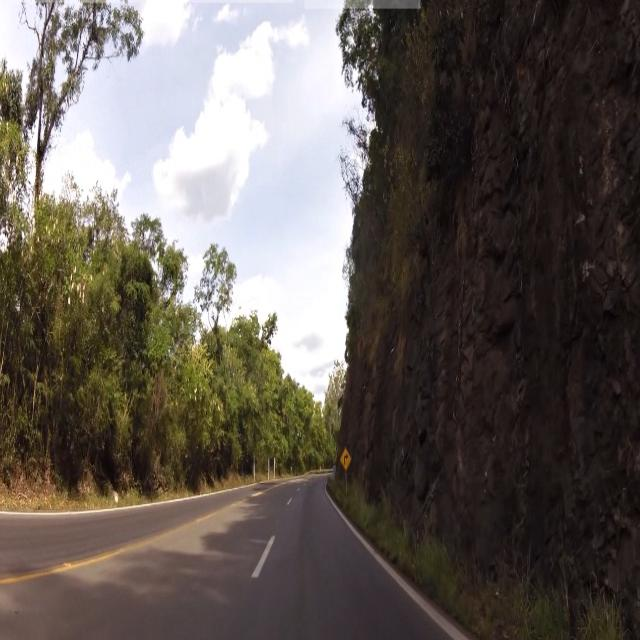A-1b: (339, 444, 354, 474)
